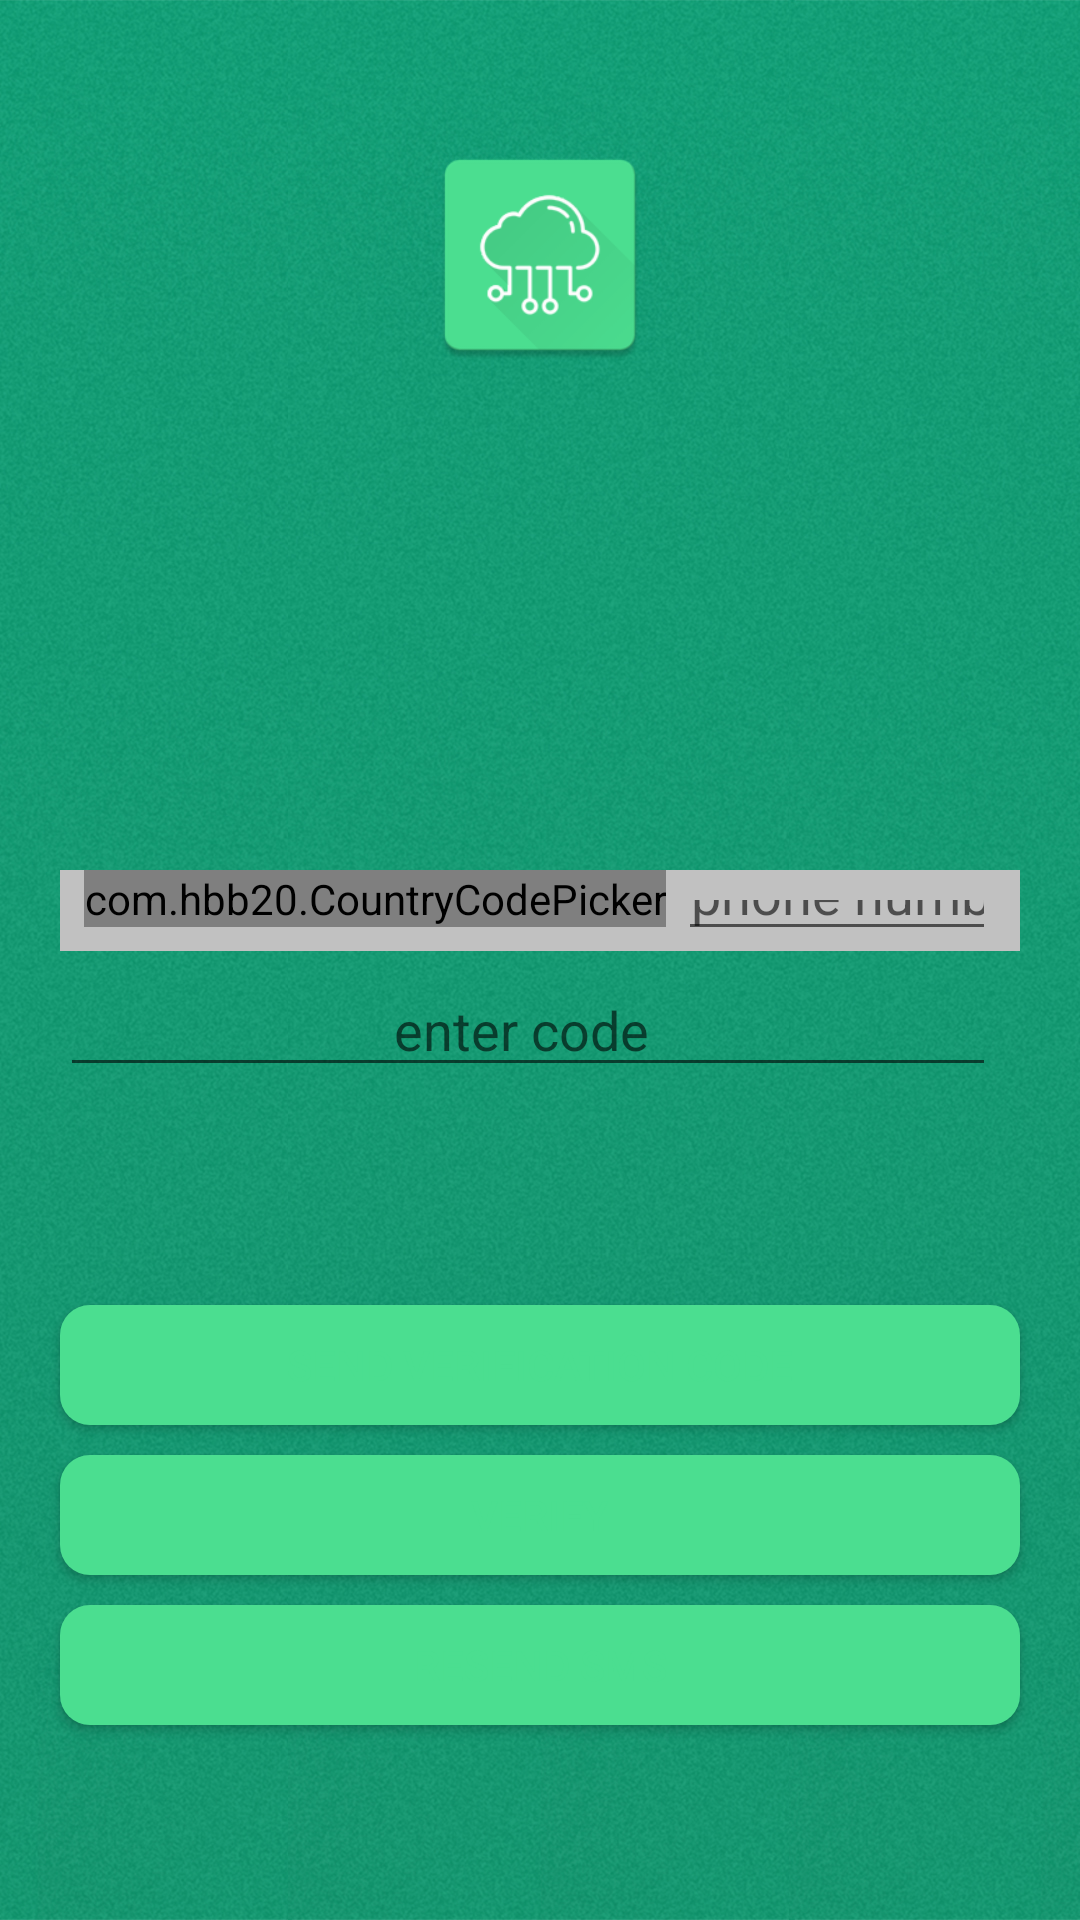

Icons on this 1080w x 1920h Android screen, each with the point to tap as (x=x, y=y):
app: (x=540, y=257)
